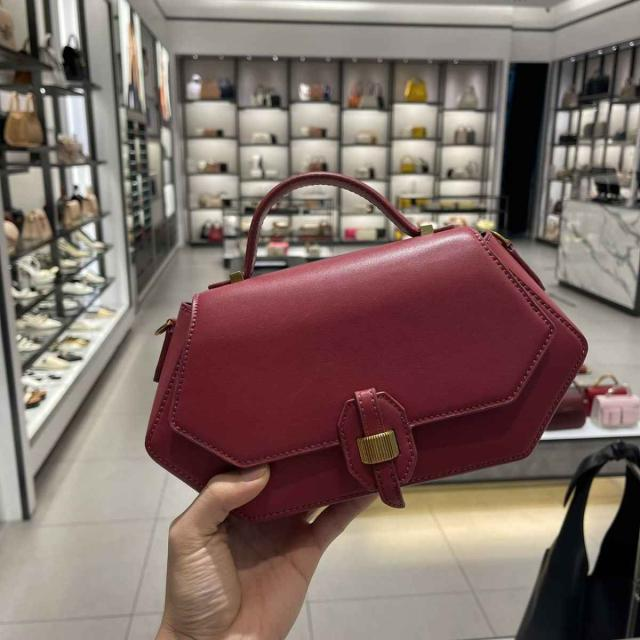Handbag: (140, 217, 592, 540)
